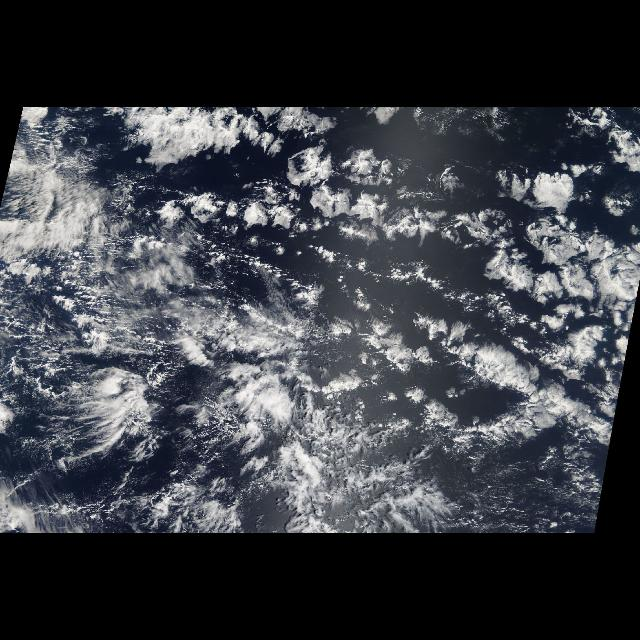Flower: (142, 113, 640, 500)
Gravel: (33, 368, 449, 524)
